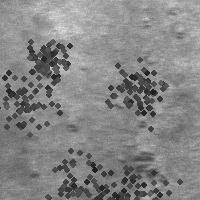rolled-in_scale: (98, 50, 176, 128), (26, 137, 116, 200), (92, 145, 194, 200), (0, 56, 62, 140), (67, 152, 149, 200), (14, 28, 76, 90), (121, 119, 168, 199), (143, 9, 186, 64)
